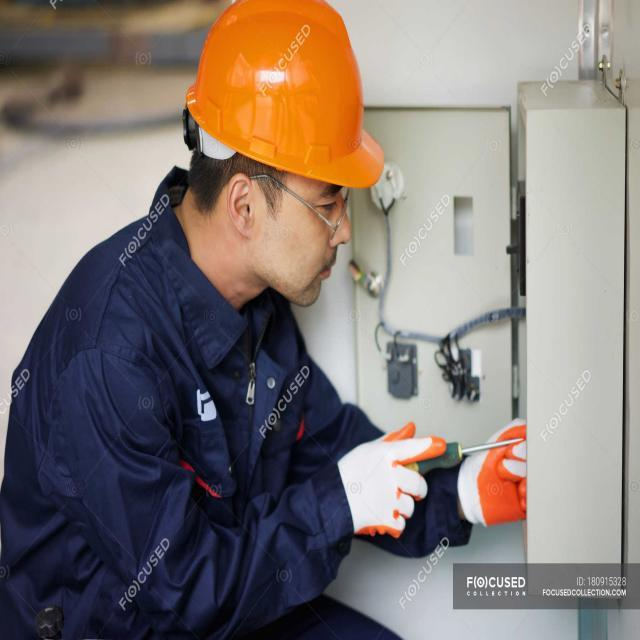screwdriver: (362, 420, 530, 490)
